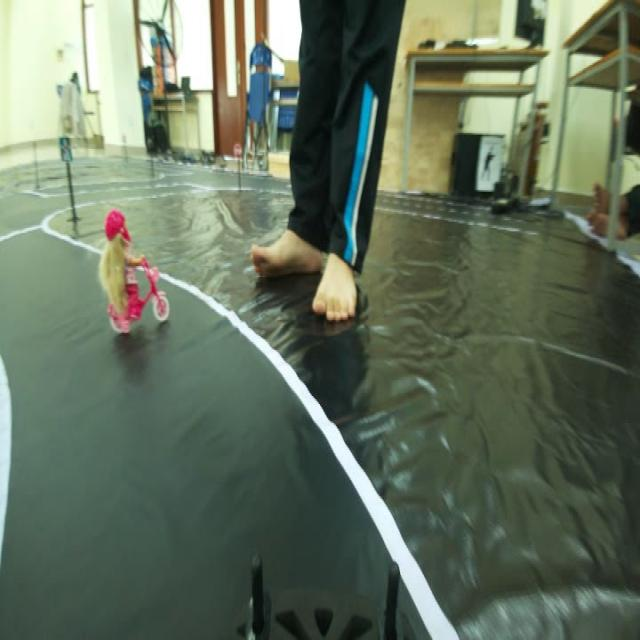pedestrian: (86, 210, 184, 332)
